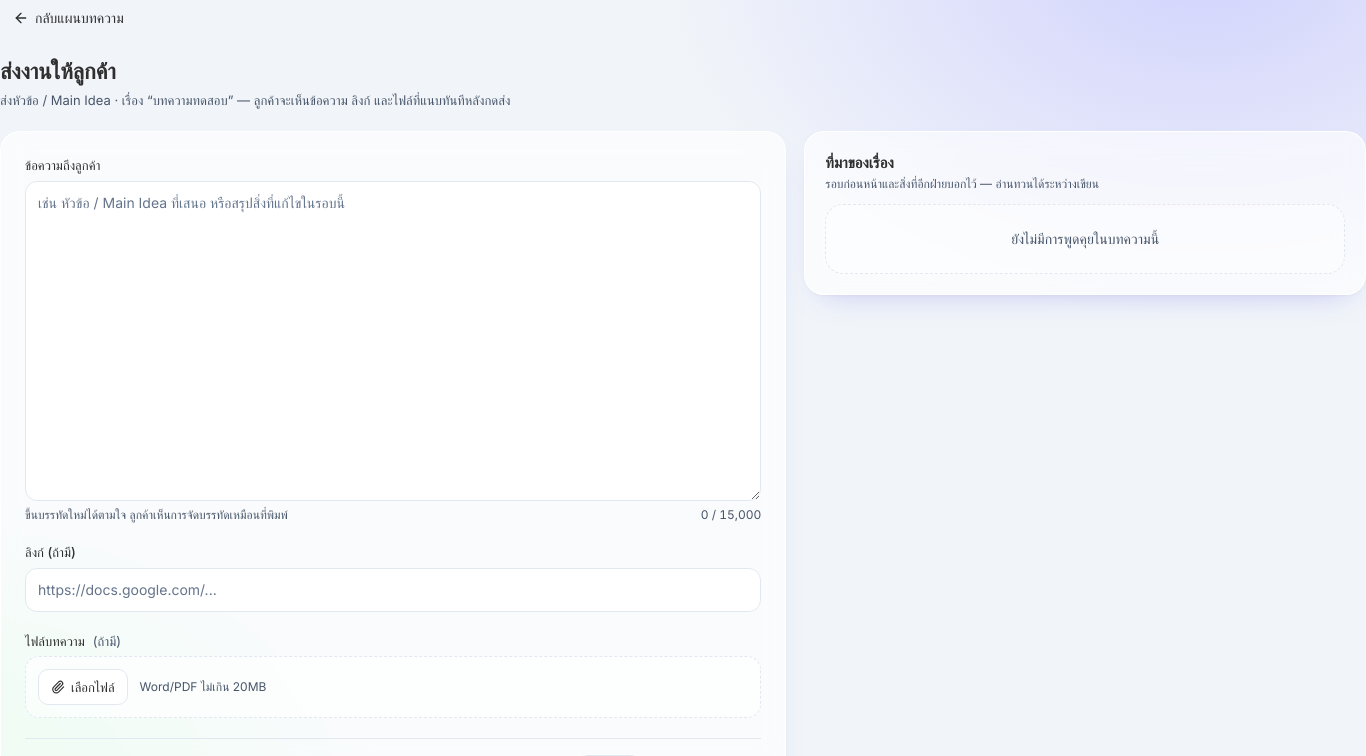
Test: StageSubmitView › ยังไม่กรอกอะไร = ส่งไม่ได้ (use case ฝั่ง server ก็ปฏิเสธเคสนี้)
The width and height of the screenshot is (1366, 756).
Type "เสนอ 3 หัวข้อ" into the text box labelled "ข้อความถึงลูกค้า" at (393, 341), box [25,181,761,501]
(page scrolled)
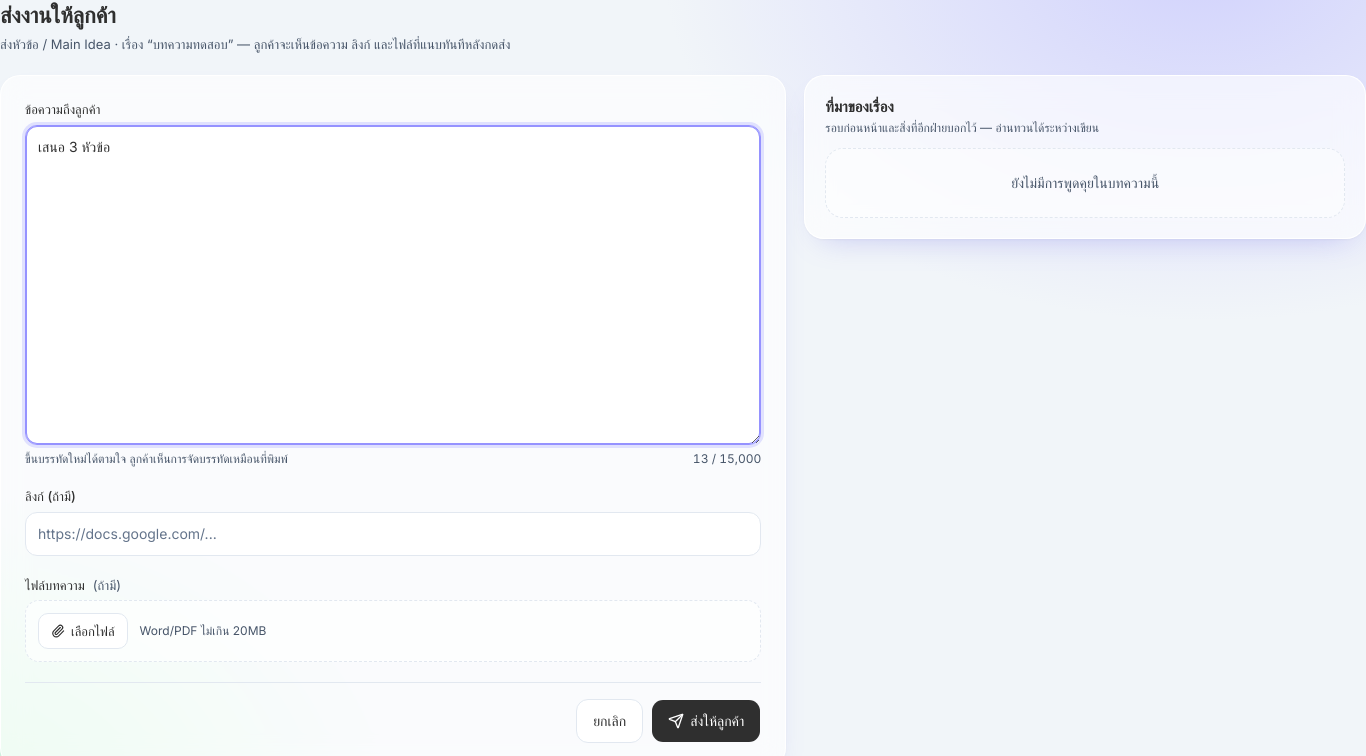
Check: the button "ส่งให้ลูกค้า" is enabled, box [651,699,761,743]
